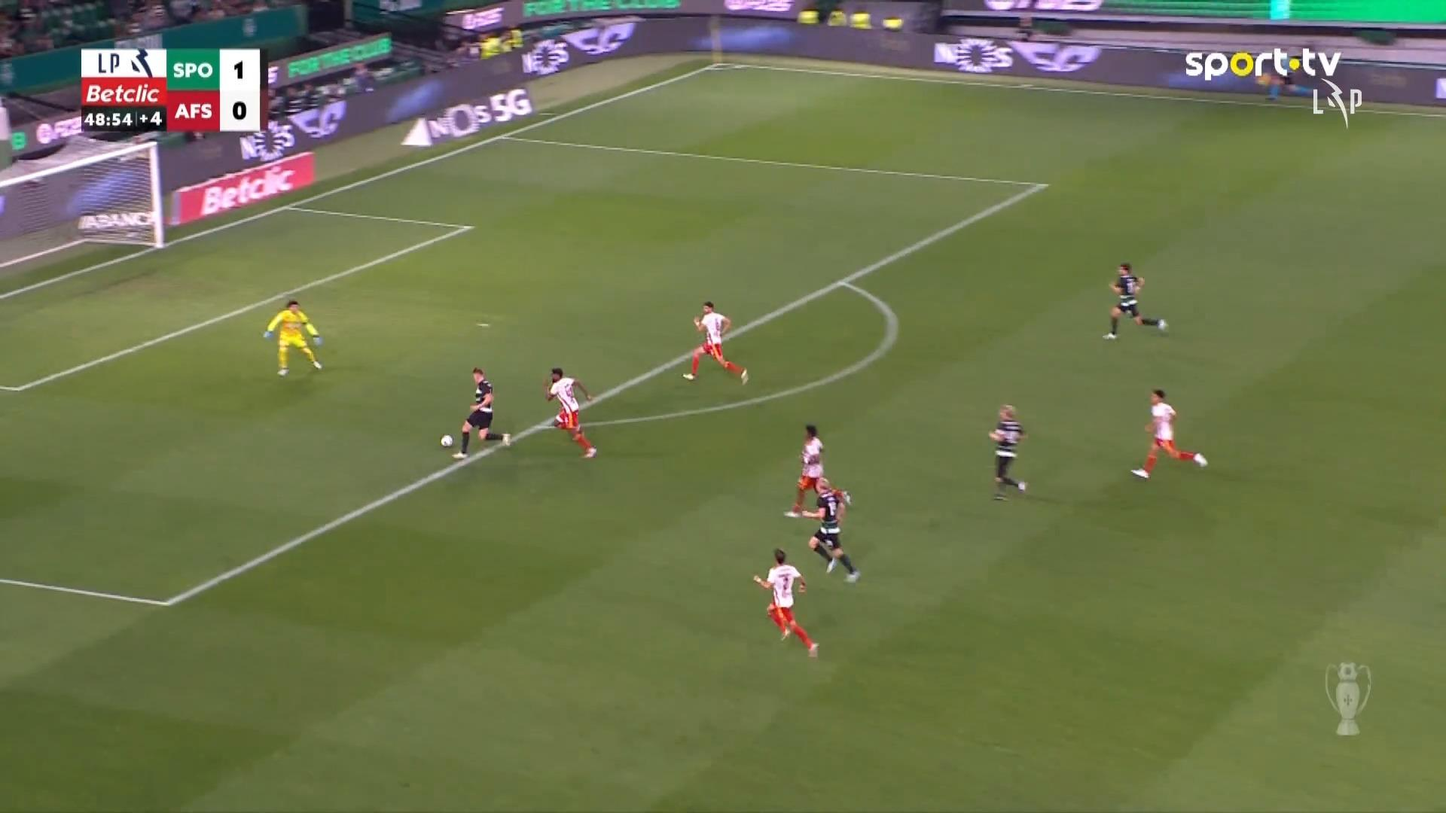ball: (441, 434, 453, 447)
goalkeeper: (262, 299, 323, 376)
player: (752, 547, 819, 658), (1130, 388, 1207, 480), (801, 477, 861, 583), (682, 300, 749, 385), (451, 367, 511, 459), (1102, 261, 1168, 340), (543, 366, 597, 458), (987, 403, 1027, 501), (784, 423, 825, 517)
referee: (1259, 49, 1316, 108)
